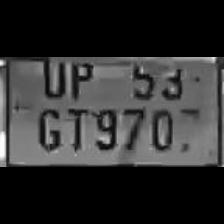0: (146, 102, 174, 152)
3: (157, 58, 185, 100)
5: (126, 57, 158, 99)
7: (117, 101, 145, 153)
9: (90, 102, 118, 152)
G: (32, 104, 62, 152)
P: (64, 57, 94, 99)
T: (63, 102, 87, 152)
U: (36, 57, 66, 99)
